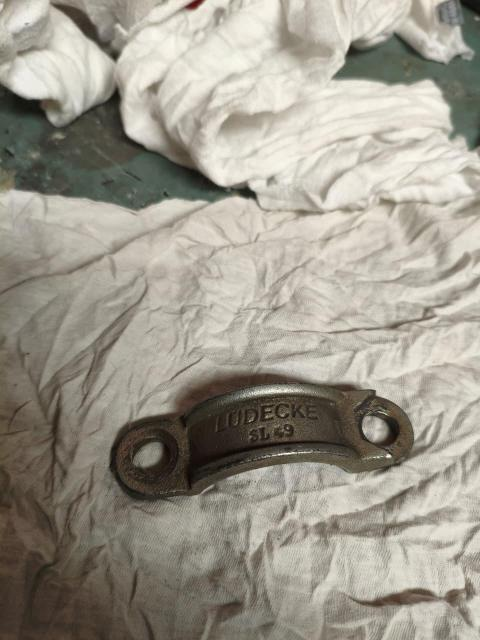Metal: (107, 387, 415, 495)
